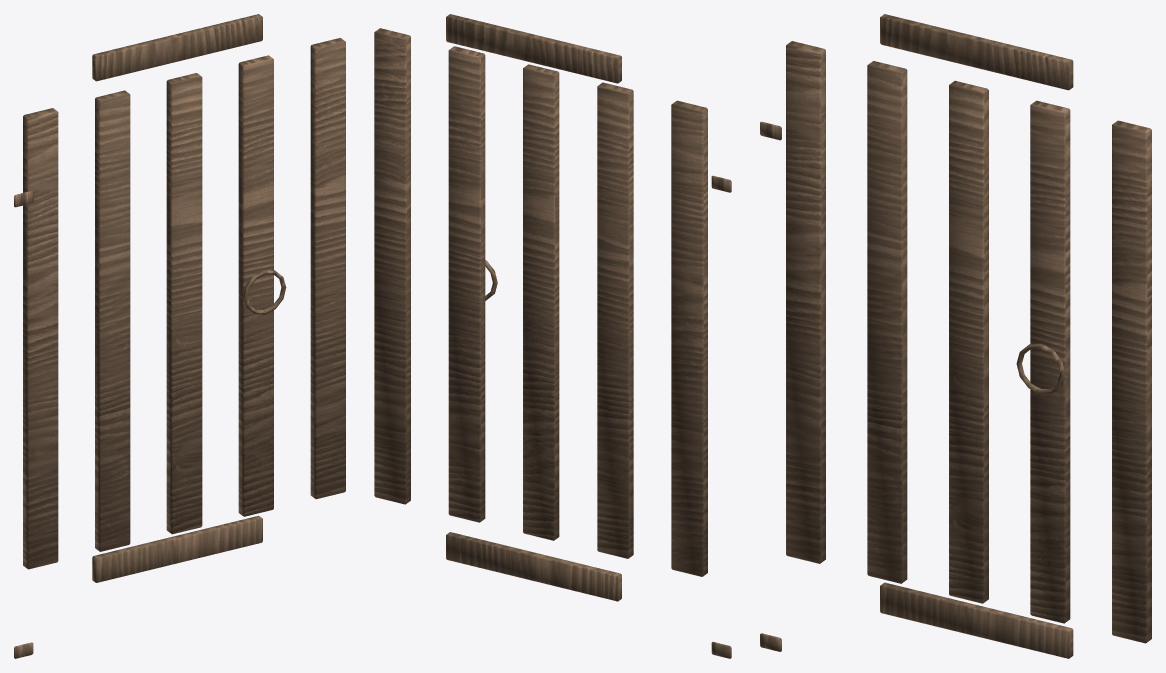
The model's file is wooden_door.fbx.
3 views of the same model, side by side, from view 1: azimuth 30°, elevation 25°; view 2: azimuth 150°, elevation 25°; view 3: azimuth 330°, elevation 25° (orthographic). The views are drawn at different scales.
Parts seen in each view (by area): view 1: wooden_door; view 2: wooden_door; view 3: wooden_door.
Part boxes in pixels (bbox=[...]): wooden_door: bbox=[14, 14, 345, 658]; wooden_door: bbox=[374, 14, 731, 658]; wooden_door: bbox=[760, 14, 1151, 658].
Bounding box in the file's own units: 0.7025 × 1.14 × 0.0668.
Materials: 1 (1 with a texture image).
